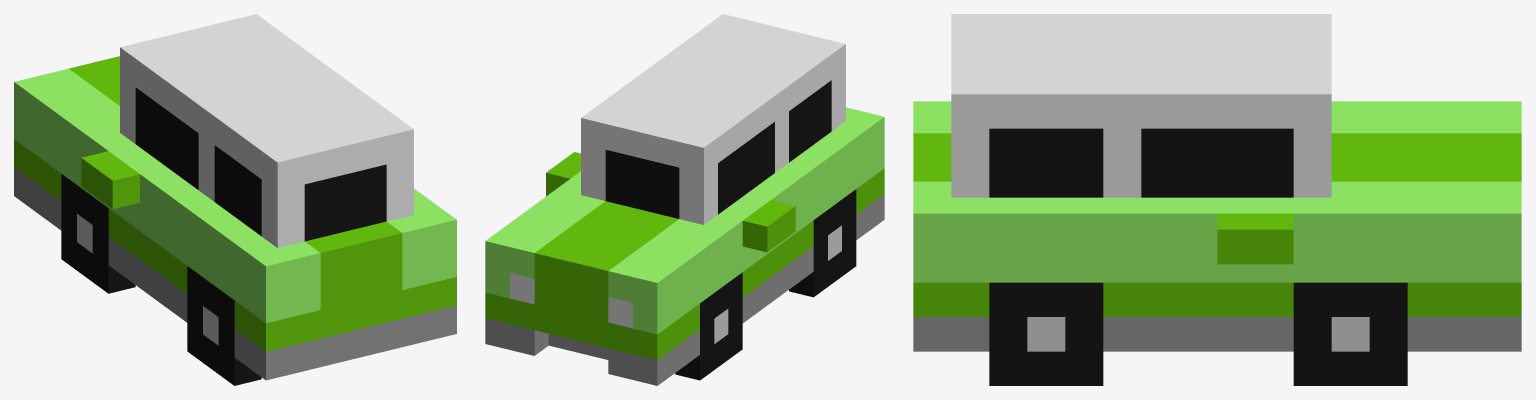
File: GreenCar.obj
3 views of the same model, side by side, from view 1: azimuth 30°, elevation 25°; view 2: azimuth 150°, elevation 25°; view 3: azimuth 270°, elevation 25° (orthographic). The views are drawn at different scales.
Visible parts, largest first — view 1: GreenCar; view 2: GreenCar; view 3: GreenCar.
Boxes of the visible parts, left/top/right/bottom form: GreenCar: left=14, top=14, right=456, bottom=385; GreenCar: left=485, top=14, right=884, bottom=385; GreenCar: left=913, top=14, right=1521, bottom=385.
Size of the model in its own units: 9 by 8 by 16.
Materials: 1 (1 with a texture image).
